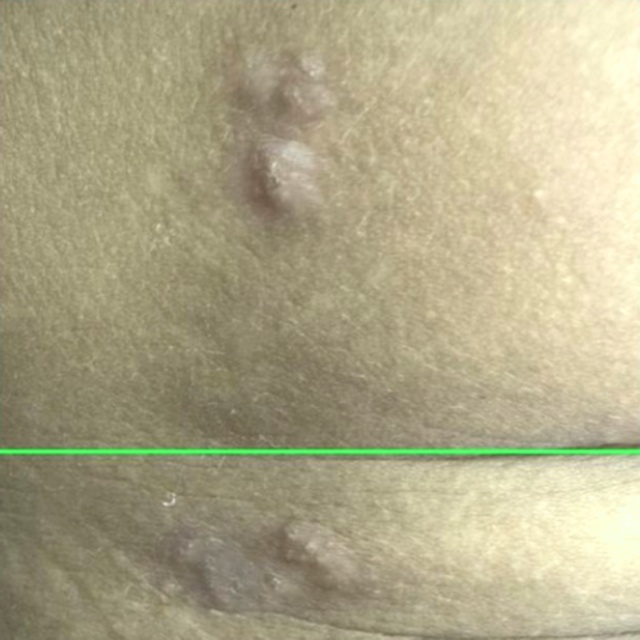Scabies: (0, 0, 639, 451)
